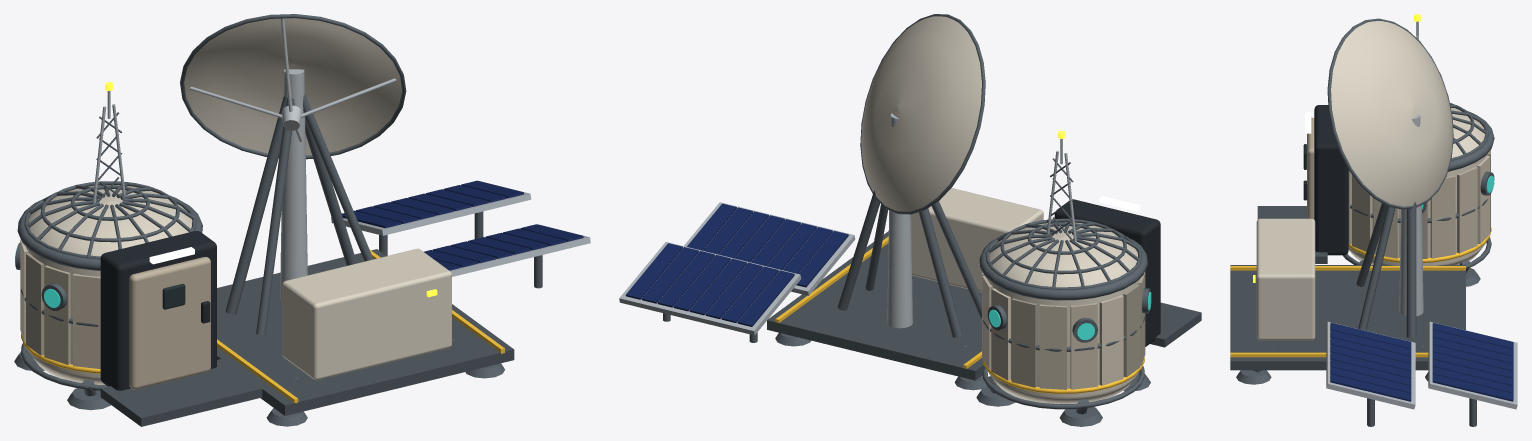
The model's file is base-boss-kestrel.glb.
3 views of the same model, side by side, from view 1: azimuth 30°, elevation 25°; view 2: azimuth 150°, elevation 25°; view 3: azimuth 270°, elevation 25° (orthographic). The views are drawn at different scales.
Parts seen in each view (by area): view 1: base-boss-kestrel-warm-ceramic-insulation, dish_azimuth-warm-ceramic-insulation, base-boss-kestrel-floor-grate, base-boss-kestrel-dark-steel, base-boss-kestrel-oatmeal-thermal-blanket, base-boss-kestrel-aluminium, base-boss-kestrel-dark-polymer, base-boss-kestrel-solar-cell, base-boss-kestrel-insulation-tile-3, dish_azimuth-dark-steel, base-boss-kestrel-insulation-tile-0, base-boss-kestrel-insulation-tile-1 (+3 smaller); view 2: dish_azimuth-warm-ceramic-insulation, base-boss-kestrel-dark-steel, base-boss-kestrel-solar-cell, base-boss-kestrel-floor-grate, base-boss-kestrel-warm-ceramic-insulation, base-boss-kestrel-aluminium, base-boss-kestrel-insulation-tile-1, base-boss-kestrel-dark-polymer, base-boss-kestrel-insulation-tile-2, base-boss-kestrel-insulation-tile-0, base-boss-kestrel-insulation-tile-3, base-boss-kestrel-hazard-yellow (+1 smaller); view 3: dish_azimuth-warm-ceramic-insulation, base-boss-kestrel-floor-grate, base-boss-kestrel-solar-cell, base-boss-kestrel-warm-ceramic-insulation, base-boss-kestrel-dark-steel, base-boss-kestrel-dark-polymer, base-boss-kestrel-aluminium, base-boss-kestrel-insulation-tile-3, base-boss-kestrel-insulation-tile-0, base-boss-kestrel-hazard-yellow, base-boss-kestrel-insulation-tile-2, dish_azimuth-dark-steel (+2 smaller).
Boxes of the visible parts, x1,y1,x2,y2 form: base-boss-kestrel-warm-ceramic-insulation: [25, 185, 451, 384]; dish_azimuth-warm-ceramic-insulation: [184, 18, 401, 155]; base-boss-kestrel-floor-grate: [100, 249, 514, 426]; base-boss-kestrel-dark-steel: [14, 93, 542, 426]; base-boss-kestrel-oatmeal-thermal-blanket: [129, 257, 210, 389]; base-boss-kestrel-aluminium: [92, 69, 590, 301]; base-boss-kestrel-dark-polymer: [100, 231, 216, 390]; base-boss-kestrel-solar-cell: [342, 180, 583, 270]; base-boss-kestrel-insulation-tile-3: [73, 273, 100, 369]; dish_azimuth-dark-steel: [180, 14, 406, 159]; base-boss-kestrel-insulation-tile-0: [44, 265, 70, 364]; base-boss-kestrel-insulation-tile-1: [26, 253, 44, 355]; dish_azimuth-warm-ceramic-insulation: [861, 16, 981, 211]; base-boss-kestrel-dark-steel: [663, 158, 1150, 426]; base-boss-kestrel-solar-cell: [625, 203, 848, 326]; base-boss-kestrel-floor-grate: [767, 231, 1201, 380]; base-boss-kestrel-warm-ceramic-insulation: [911, 188, 1140, 404]; base-boss-kestrel-aluminium: [619, 113, 1076, 387]; base-boss-kestrel-insulation-tile-1: [1011, 284, 1140, 387]; base-boss-kestrel-dark-polymer: [1054, 199, 1160, 346]; base-boss-kestrel-insulation-tile-2: [991, 288, 1123, 385]; base-boss-kestrel-insulation-tile-0: [982, 272, 1145, 389]; base-boss-kestrel-insulation-tile-3: [982, 276, 1097, 389]; base-boss-kestrel-hazard-yellow: [775, 236, 1144, 393]; dish_azimuth-warm-ceramic-insulation: [1331, 21, 1452, 206]; base-boss-kestrel-floor-grate: [1230, 206, 1465, 370]; base-boss-kestrel-solar-cell: [1330, 322, 1513, 401]; base-boss-kestrel-warm-ceramic-insulation: [1256, 108, 1487, 340]; base-boss-kestrel-dark-steel: [1236, 103, 1494, 426]; base-boss-kestrel-dark-polymer: [1303, 105, 1348, 255]; base-boss-kestrel-aluminium: [1326, 21, 1517, 409]; base-boss-kestrel-insulation-tile-3: [1352, 167, 1477, 253]; base-boss-kestrel-insulation-tile-0: [1348, 170, 1455, 258]; base-boss-kestrel-hazard-yellow: [1230, 227, 1491, 357]; base-boss-kestrel-insulation-tile-2: [1373, 155, 1489, 258]; dish_azimuth-dark-steel: [1327, 18, 1453, 209].
Size of the model in its own units: 9.1 by 5.89 by 5.18.
